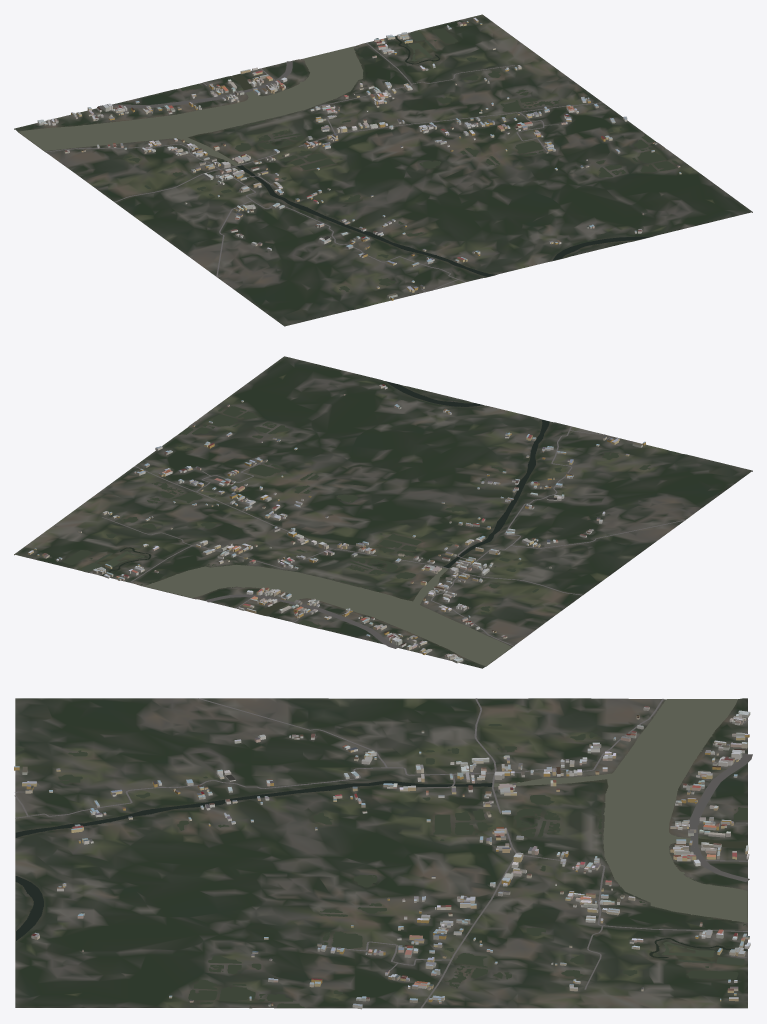
3 views of the same model, one above another, from view 1: azimuth 30°, elevation 25°; view 2: azimuth 150°, elevation 25°; view 3: azimuth 270°, elevation 25° (orthographic). The views are drawn at different scales.
Parts seen in each view (by area): view 1: ground, water, buildings, roads; view 2: ground, water, buildings, roads; view 3: ground, water, buildings, roads.
Part boxes in pixels (x1,y1,x2,y2): ground: (14, 14, 752, 326); water: (18, 28, 678, 308); buildings: (37, 17, 681, 300); roads: (45, 35, 602, 291); ground: (14, 356, 752, 668); water: (62, 381, 679, 665); buildings: (28, 384, 645, 663); roads: (90, 426, 685, 660); ground: (15, 698, 747, 1008); water: (15, 699, 747, 1007); buildings: (14, 706, 750, 1009); roads: (14, 698, 752, 1008).
Size of the model in its own units: 1406 by 17.55 by 1412.
